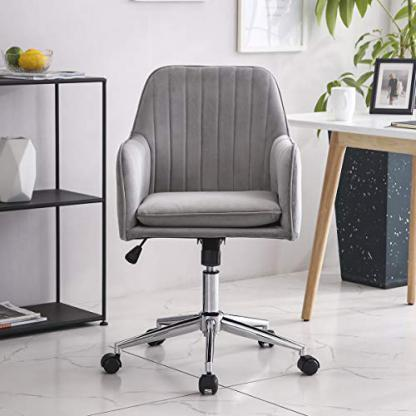chair: (86, 45, 325, 396)
table: (285, 95, 416, 328)
